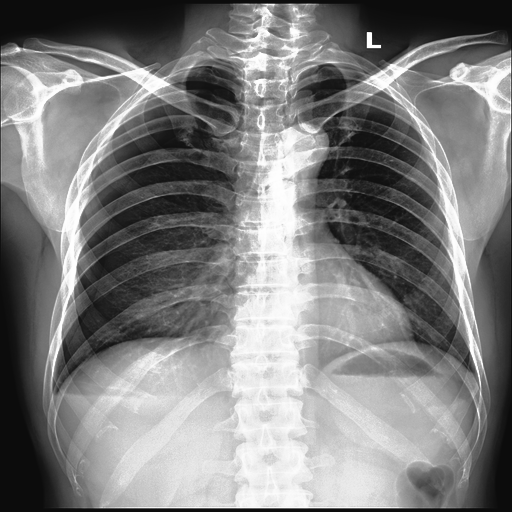Atelectasis: (56, 55, 238, 394)
Calcification: (50, 386, 61, 403)
Consolidation: (281, 122, 331, 168)
Pleural effusion: (50, 386, 61, 403)
